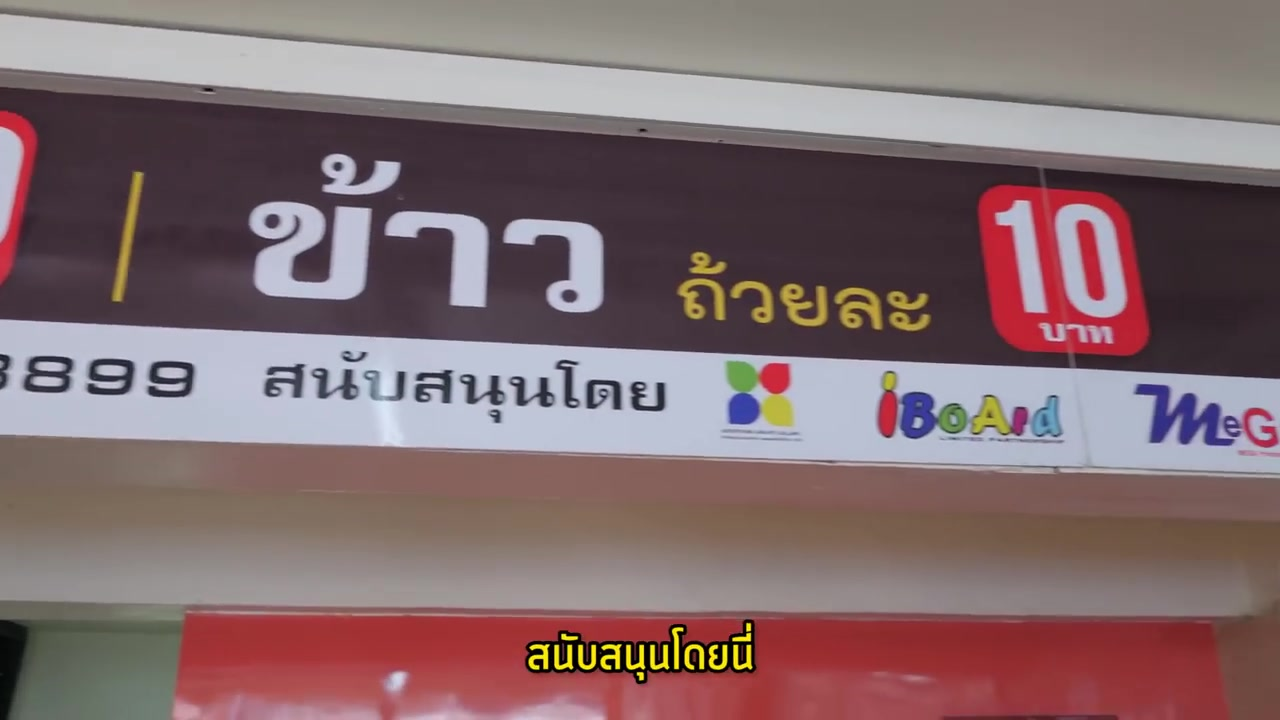text-label: (242, 147, 938, 339), (521, 616, 759, 685)
